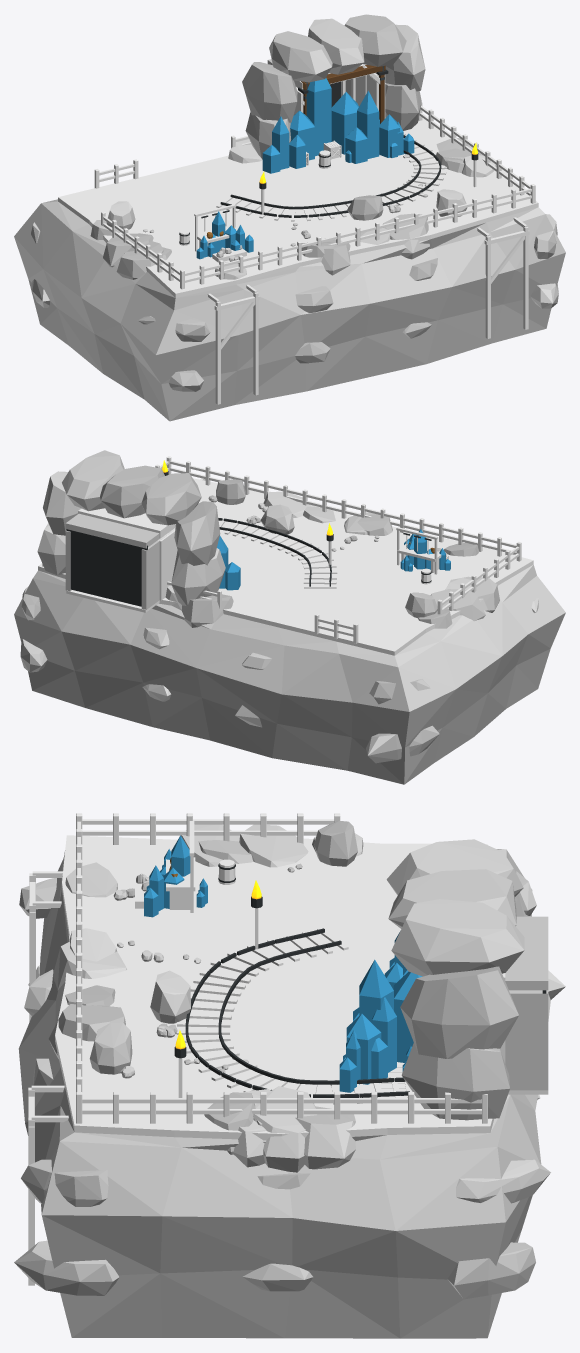
Rendered from core_cavern.glb.
3 views of the same model, one above another, from view 1: azimuth 30°, elevation 25°; view 2: azimuth 150°, elevation 25°; view 3: azimuth 270°, elevation 25° (orthographic). The views are drawn at different scales.
Visible parts, largest first — view 1: core_cavern_Mine_Rock, core_cavern_Mine_Earth, core_cavern_Mine_Wood, core_cavern_G04_crystal, core_cavern_Mine_WoodLight, core_cavern_Mine_Metal, core_cavern_G04_wood.002; view 2: core_cavern_Mine_Rock, core_cavern_Mine_Earth, core_cavern_Mine_Wood, core_cavern_Mine_Metal, core_cavern_Mine_WoodLight, core_cavern_G04_crystal; view 3: core_cavern_Mine_Rock, core_cavern_Mine_Earth, core_cavern_Mine_Wood, core_cavern_G04_crystal, core_cavern_Mine_WoodLight, core_cavern_Mine_Metal.
Part boxes in pixels (x1,y1,x2,y2): core_cavern_Mine_Rock: [14, 14, 565, 421]; core_cavern_Mine_Earth: [58, 117, 538, 297]; core_cavern_Mine_Wood: [94, 64, 535, 404]; core_cavern_G04_crystal: [196, 78, 414, 259]; core_cavern_Mine_WoodLight: [99, 106, 531, 310]; core_cavern_Mine_Metal: [201, 69, 478, 218]; core_cavern_G04_wood.002: [301, 65, 385, 123]; core_cavern_Mine_Rock: [14, 450, 565, 784]; core_cavern_Mine_Earth: [38, 478, 533, 655]; core_cavern_Mine_Wood: [42, 456, 521, 643]; core_cavern_Mine_Metal: [66, 471, 431, 606]; core_cavern_Mine_WoodLight: [160, 460, 519, 636]; core_cavern_G04_crystal: [217, 529, 450, 590]; core_cavern_Mine_Rock: [14, 820, 565, 1338]; core_cavern_Mine_Earth: [55, 835, 548, 1140]; core_cavern_Mine_Wood: [28, 813, 505, 1285]; core_cavern_G04_crystal: [144, 835, 422, 1092]; core_cavern_Mine_WoodLight: [28, 819, 481, 1133]; core_cavern_Mine_Metal: [174, 896, 546, 1097].
Size of the model in its own units: 31.66 by 16.66 by 21.77.
